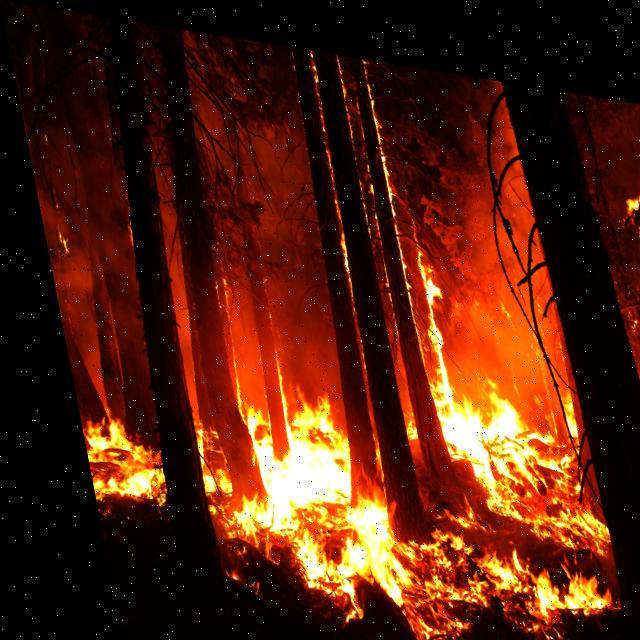Fire: (354, 86, 639, 639), (54, 344, 382, 592)
